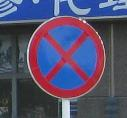No Parking: (28, 18, 107, 102)
